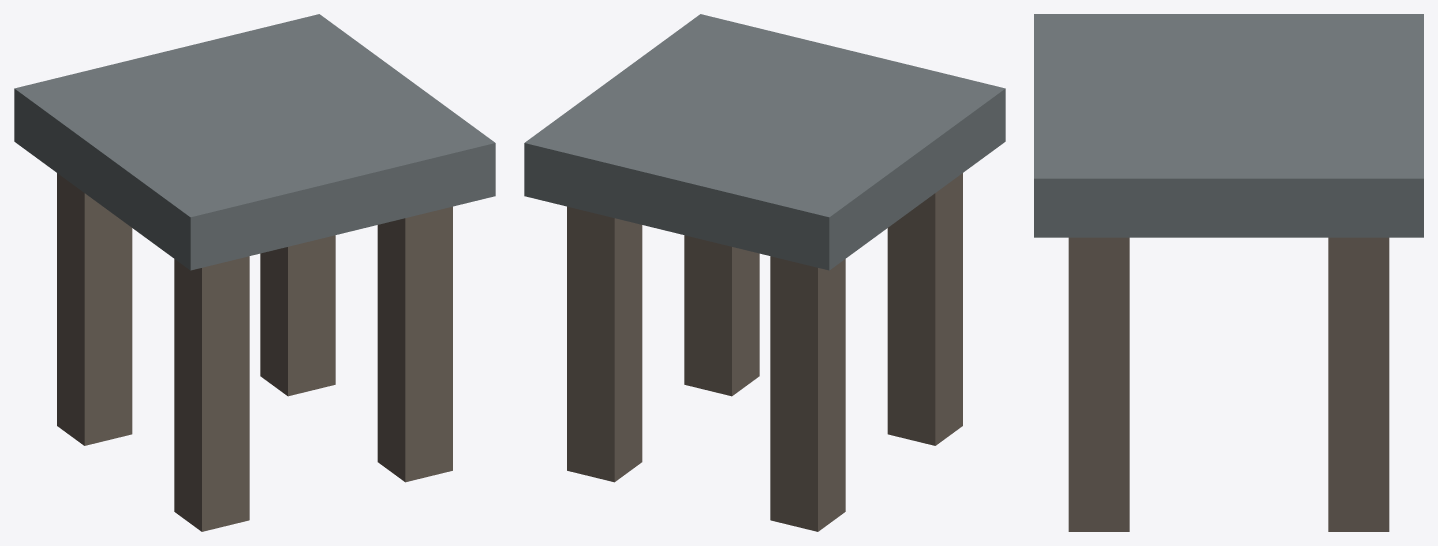
File: stool_workshop.glb
3 renders of one model, left to right at view 1: azimuth 30°, elevation 25°; view 2: azimuth 150°, elevation 25°; view 3: azimuth 270°, elevation 25°, orthographic. The views are drawn at different scales.
Visible parts, largest first — view 1: body; view 2: body; view 3: body.
Part boxes in pixels (left/top/right/bottom): body: left=14, top=14, right=495, bottom=531; body: left=524, top=14, right=1005, bottom=531; body: left=1034, top=14, right=1423, bottom=531.
Size of the model in its own units: 0.48 by 0.5 by 0.48.
